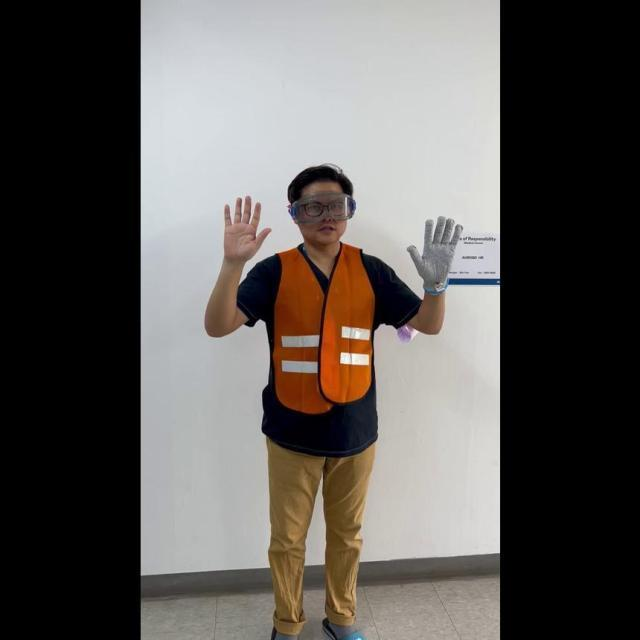bare_hand: (218, 189, 269, 262)
gloved_hand: (404, 211, 462, 292)
